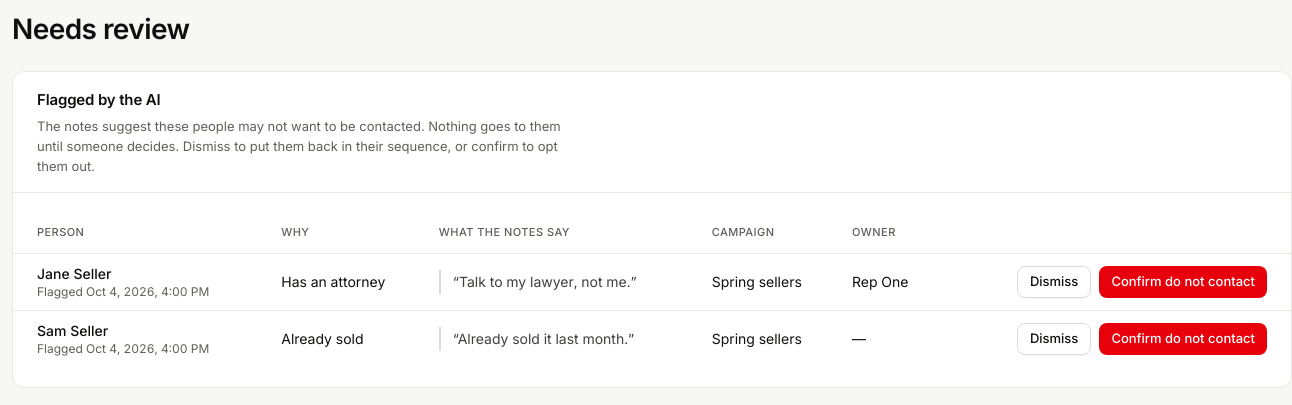
ReviewPage › after someone else decided first (409 NOT_IN_REVIEW), says so and reloads the list so the stale row is gone
Check: the text "Jane Seller" is shown, box [37,264,111,282]
Click the button with aria-label "Dismiss flag for Jane Seller".
click(1054, 282)  # box [1017,266,1091,298]
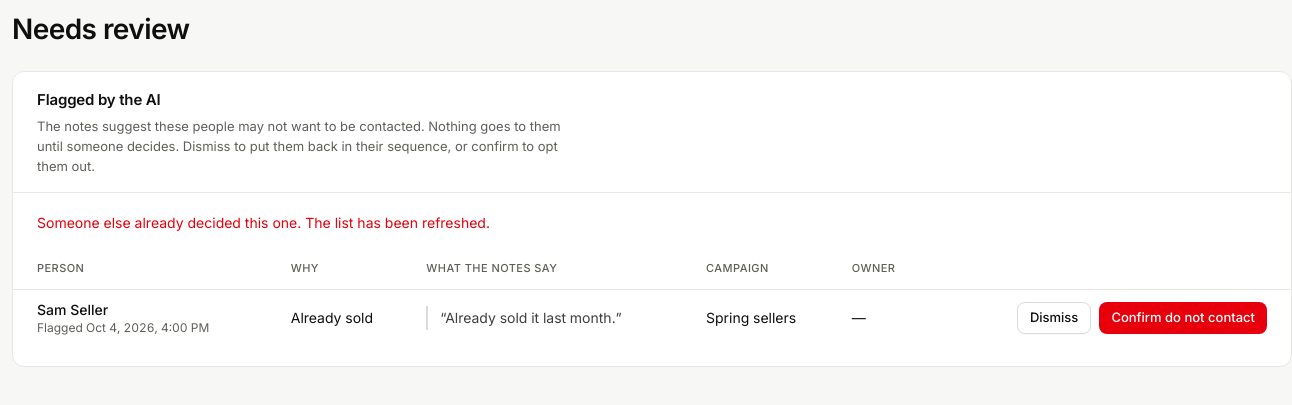
Check: the text "Sam Seller" is shown, box [37,300,108,318]
Check: the message shows "Someone else already decided this one.", box [37,214,490,231]
Check: the text "Jane Seller" is gone
